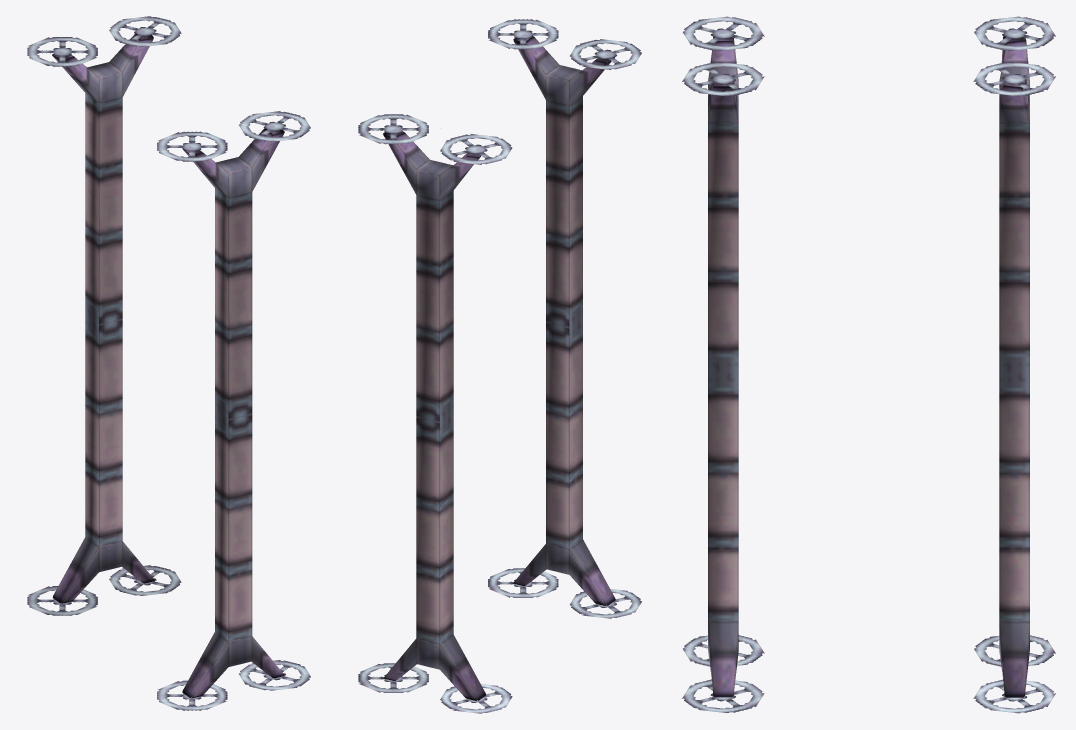
The picture shows the model from 3 angles, left to right: view 1: azimuth 30°, elevation 25°; view 2: azimuth 150°, elevation 25°; view 3: azimuth 270°, elevation 25°; orthographic projection. The views are drawn at different scales.
Parts seen in each view (by area): view 1: T1L7M002_3; view 2: T1L7M002_3; view 3: T1L7M002_3.
Part boxes in pixels (box(x1,y1,x2,y2)): T1L7M002_3: box(27, 16, 310, 710); T1L7M002_3: box(358, 19, 641, 713); T1L7M002_3: box(682, 16, 1055, 713).
Bounding box in the file's own units: 1.11 × 3.76 × 2.13.
